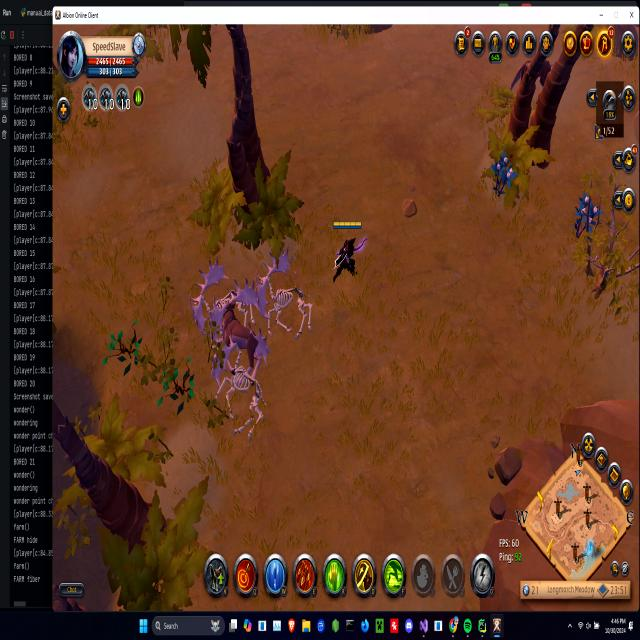hide: (491, 150, 516, 197), (573, 190, 596, 240)
mob: (212, 280, 262, 374)
red: (331, 218, 364, 286)
